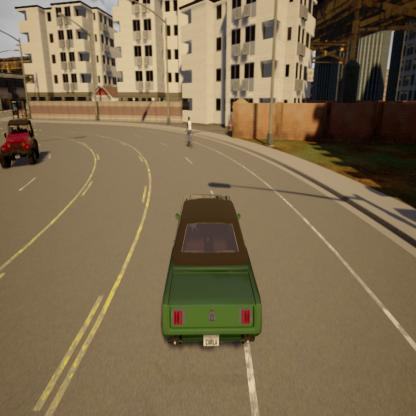Cars: (152, 171, 270, 359), (0, 110, 50, 179)
